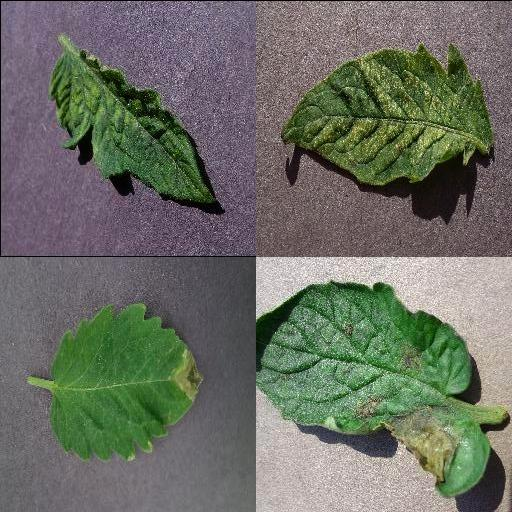Late Blight: (256, 280, 493, 498), (48, 301, 206, 461)
Mosaic Virus: (47, 49, 219, 205)
Spider Mites: (281, 43, 495, 185)
